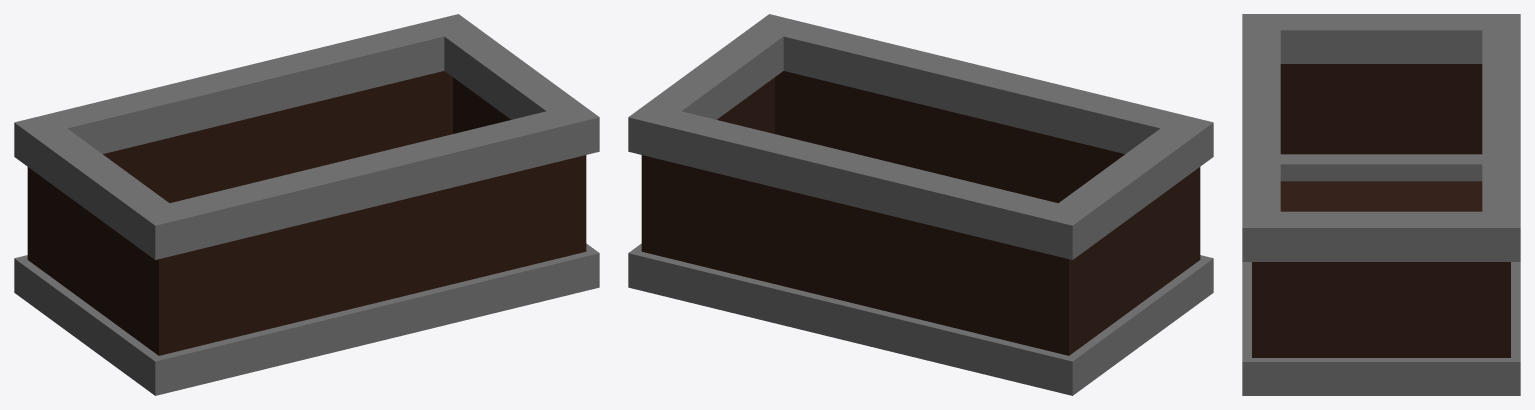
File: SM_chest_base_01.fbx
3 views of the same model, side by side, from view 1: azimuth 30°, elevation 25°; view 2: azimuth 150°, elevation 25°; view 3: azimuth 270°, elevation 25° (orthographic).
Parts seen in each view (by area): view 1: Cylinder046; view 2: Cylinder046; view 3: Cylinder046.
Part boxes in pixels (bbox=[...]): Cylinder046: bbox=[14, 14, 599, 395]; Cylinder046: bbox=[628, 14, 1213, 395]; Cylinder046: bbox=[1242, 14, 1520, 395].
Bounding box in the file's own units: 56.23 × 20.58 × 30.93.
